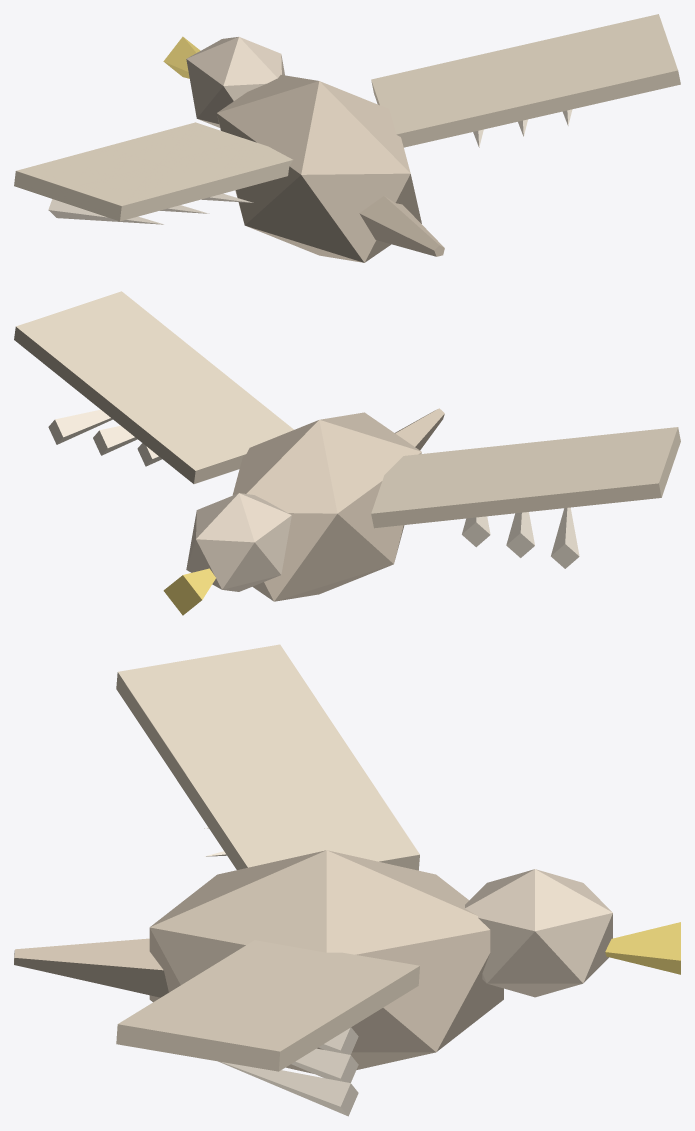
Rendered from harpy.glb.
3 views of the same model, one above another, from view 1: azimuth 30°, elevation 25°; view 2: azimuth 150°, elevation 25°; view 3: azimuth 270°, elevation 25° (orthographic). The views are drawn at different scales.
Visible parts, largest first — view 1: HarpyBody; view 2: HarpyBody; view 3: HarpyBody.
Part boxes in pixels (<box>): HarpyBody: <box>14,14,680,262</box>; HarpyBody: <box>14,291,680,615</box>; HarpyBody: <box>14,644,680,1116</box>.
Size of the model in its own units: 2.33 by 0.6057 by 1.6.
